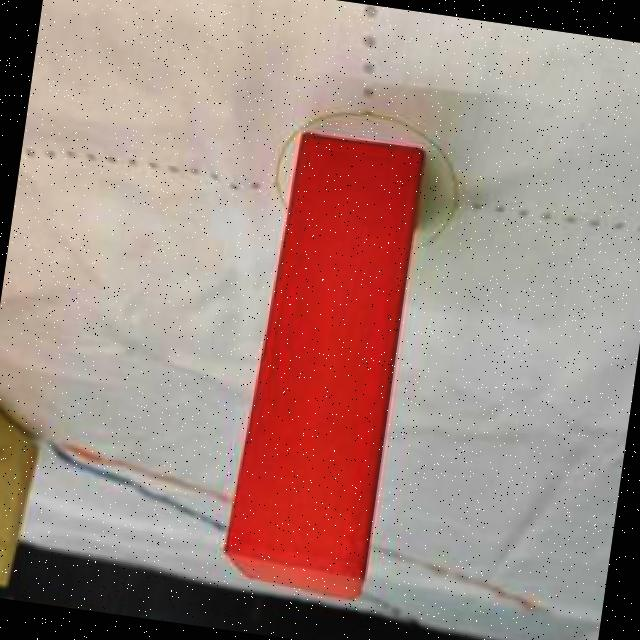redbox: (220, 129, 426, 600)
